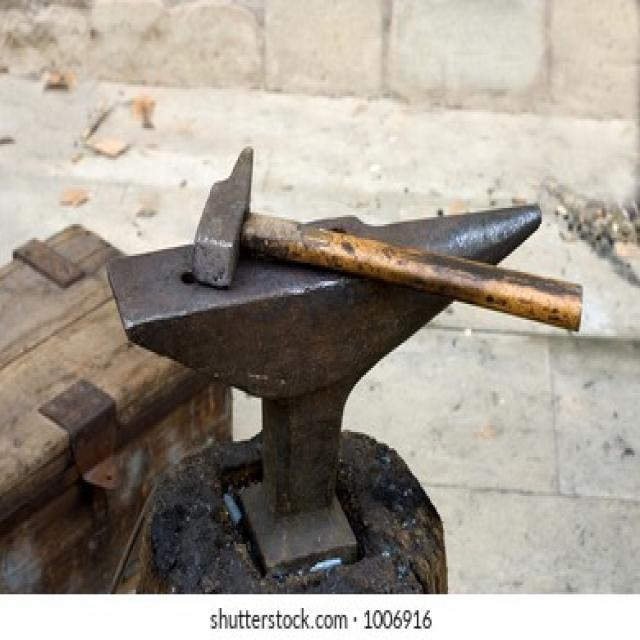hammer: (182, 130, 591, 343)
